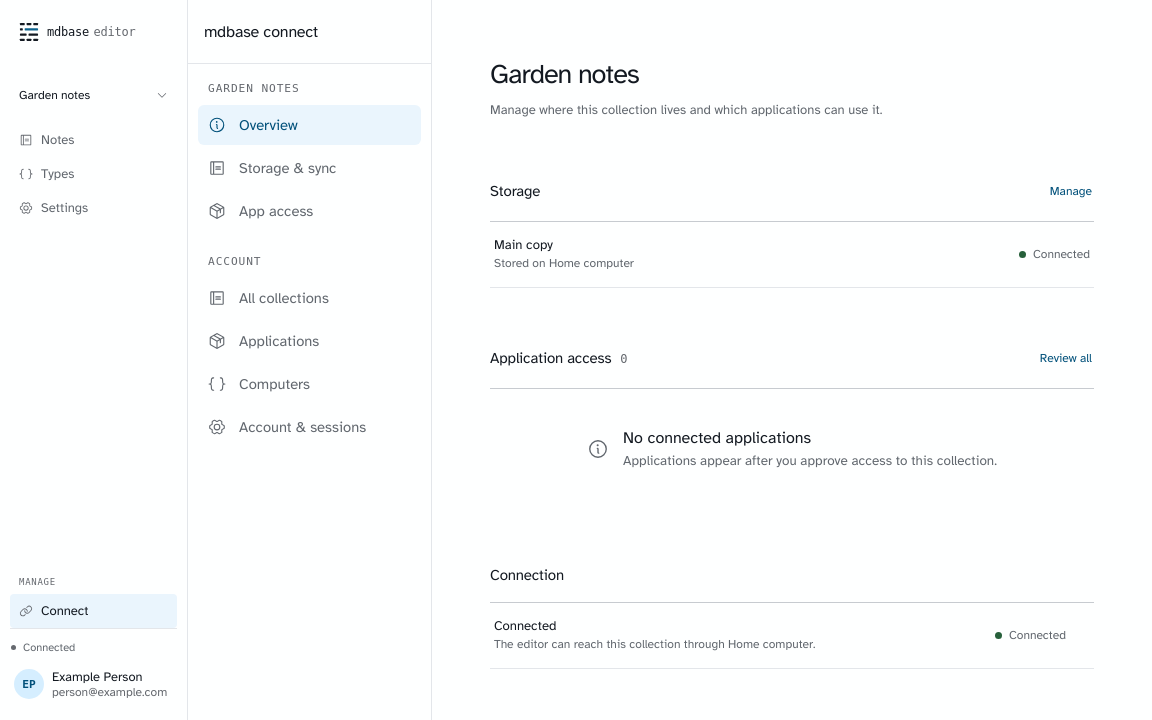
Test: ConnectApp › keeps Connect inside the editor collection shell
Expected: the heading "Garden notes" is shown, [490,57,639,91]
Expected: the element named "Collection navigation" shows "notes", [10,123,177,157]
Click the link "Storage & sync" at (272, 168), box [208,159,336,177]
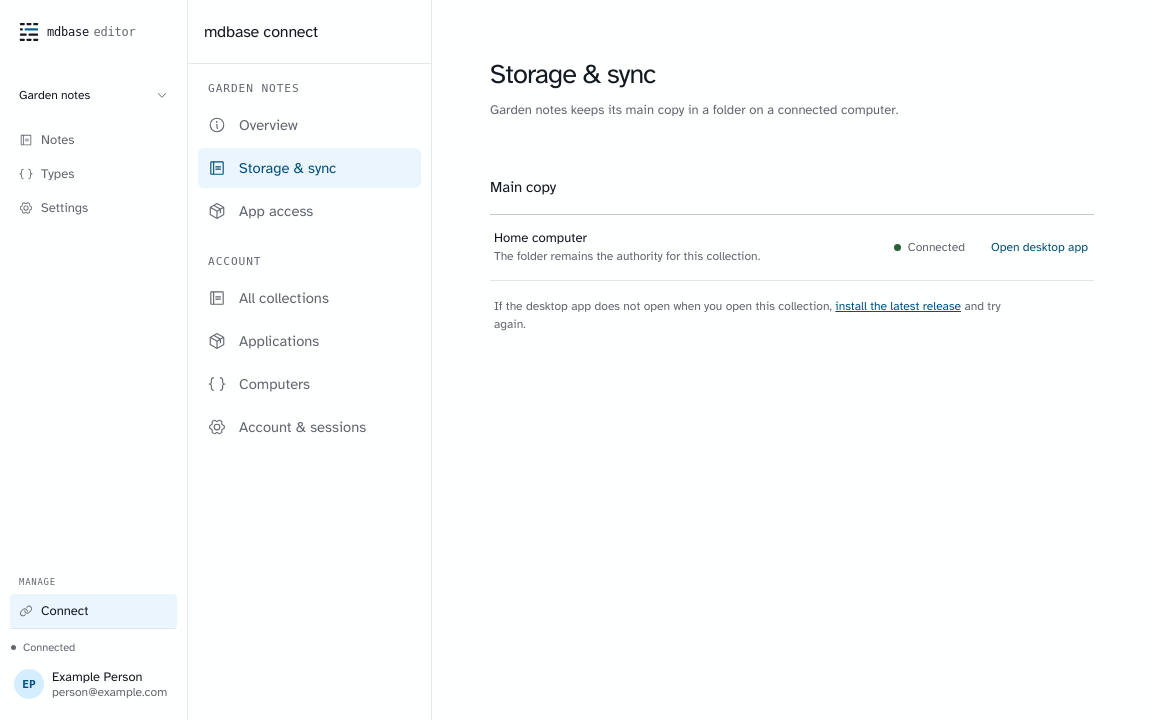
Now the heading "Storage & sync" is shown, box [490,57,656,91]
